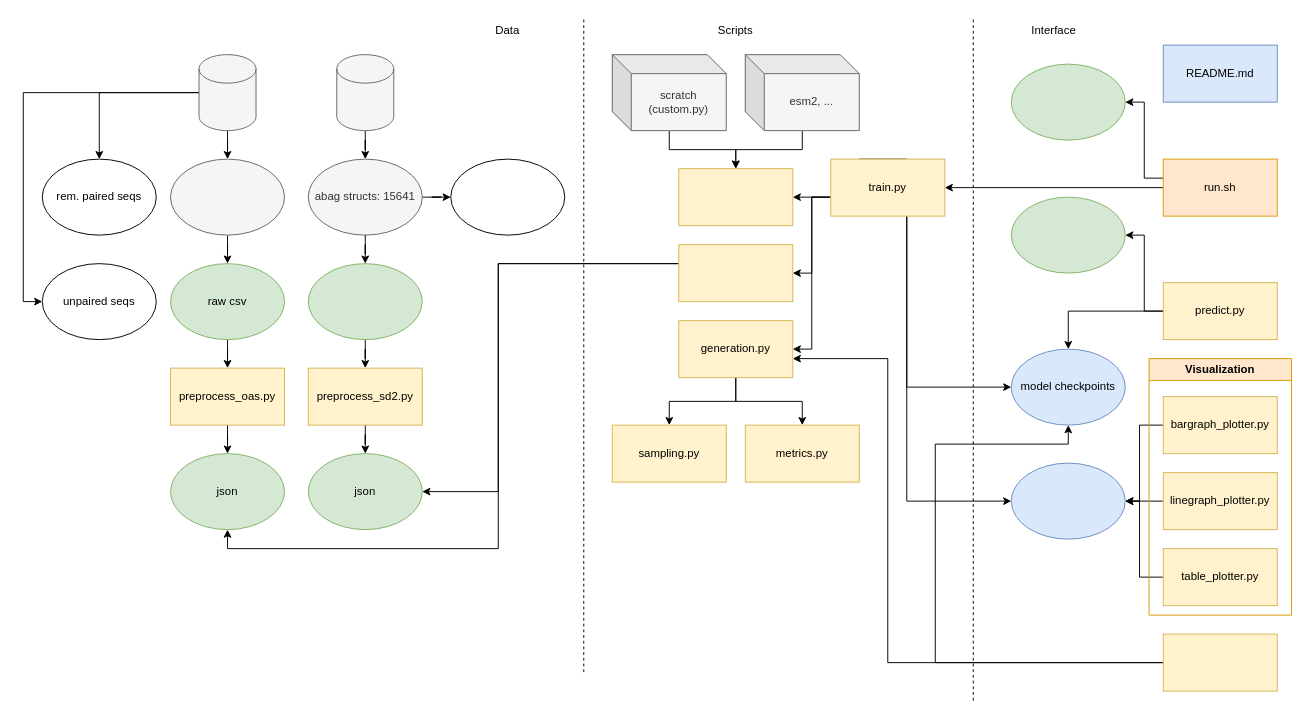
This 1308x718 diagram has some shape labels left out. Each missing label, with the centre of its shape:
abag_split.csv: pixel 364 301
dataset.py: pixel 735 273
gen_eval.py: pixel 1219 662
models.py: pixel 735 197
OAS: pixel 227 92
paired seqs: 21106: pixel 227 196
raw cifs: pixel 507 196
run log: pixel 1067 500
SAbDab2: pixel 365 92
test configs: pixel 1067 234
train configs: pixel 1067 101
